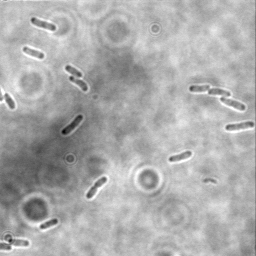Dividing: (86, 175, 108, 200), (225, 120, 255, 133), (168, 150, 194, 163)
Rod: (60, 114, 84, 136), (219, 96, 247, 112), (30, 16, 57, 32), (68, 74, 89, 94), (23, 45, 46, 60), (64, 64, 84, 79), (40, 217, 60, 230), (188, 83, 211, 94), (4, 92, 17, 111), (208, 88, 231, 98), (8, 238, 30, 247)
